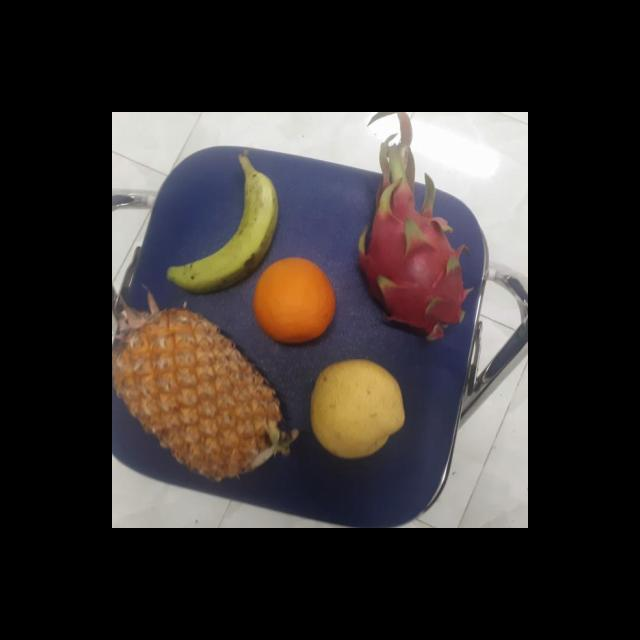banana: (172, 162, 276, 294)
guava: (306, 359, 406, 458)
orange: (251, 256, 338, 346)
pineapple: (112, 308, 286, 486)
pitaya: (352, 184, 482, 340)
